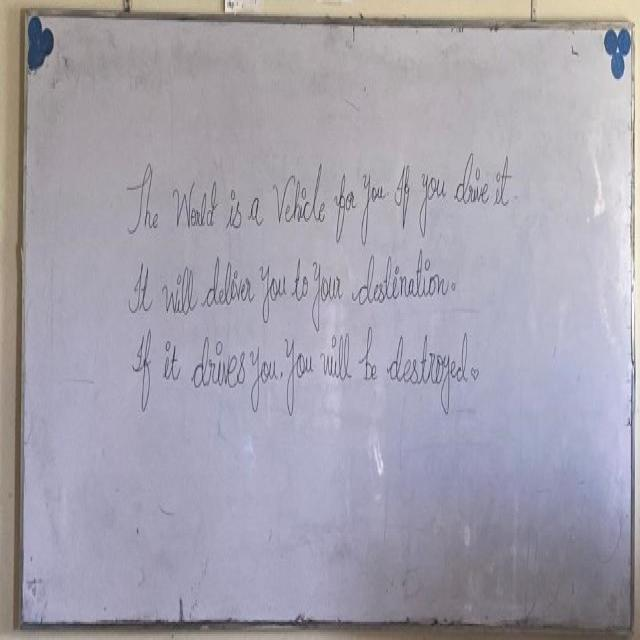White-board: (21, 18, 632, 627)
